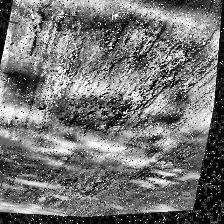pothole: (60, 84, 138, 140)
